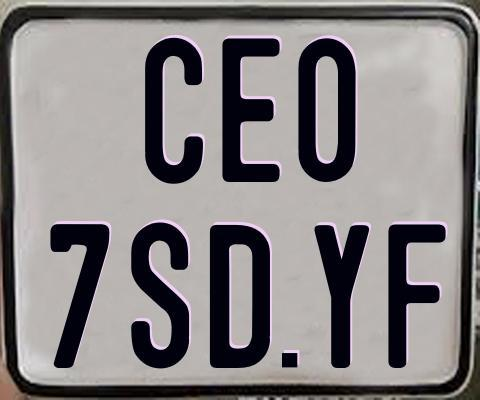0: (295, 35, 359, 179)
7: (48, 221, 112, 369)
C: (142, 38, 205, 190)
D: (210, 224, 275, 370)
E: (219, 38, 278, 187)
F: (387, 224, 447, 370)
S: (129, 220, 193, 370)
Y: (314, 222, 373, 371)
